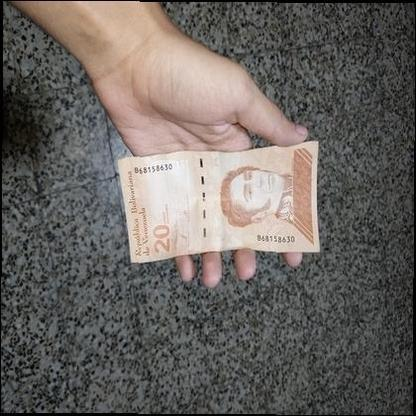twenty-front-vef: (116, 140, 320, 263)
